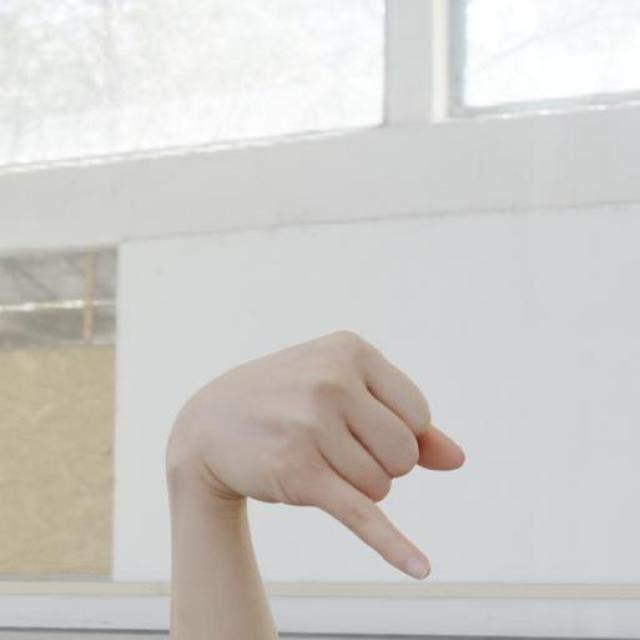J: (160, 326, 476, 583)
